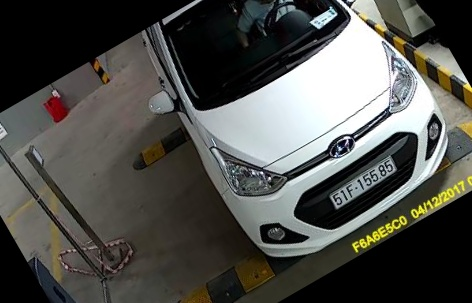plate: (317, 157, 402, 213)
